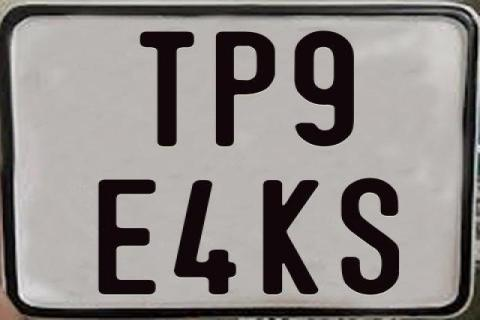0: (293, 30, 357, 150), (171, 178, 233, 294)
E: (98, 177, 160, 295)
K: (263, 180, 322, 298)
P: (215, 31, 280, 148)
S: (339, 177, 397, 299)
T: (140, 29, 196, 147)
